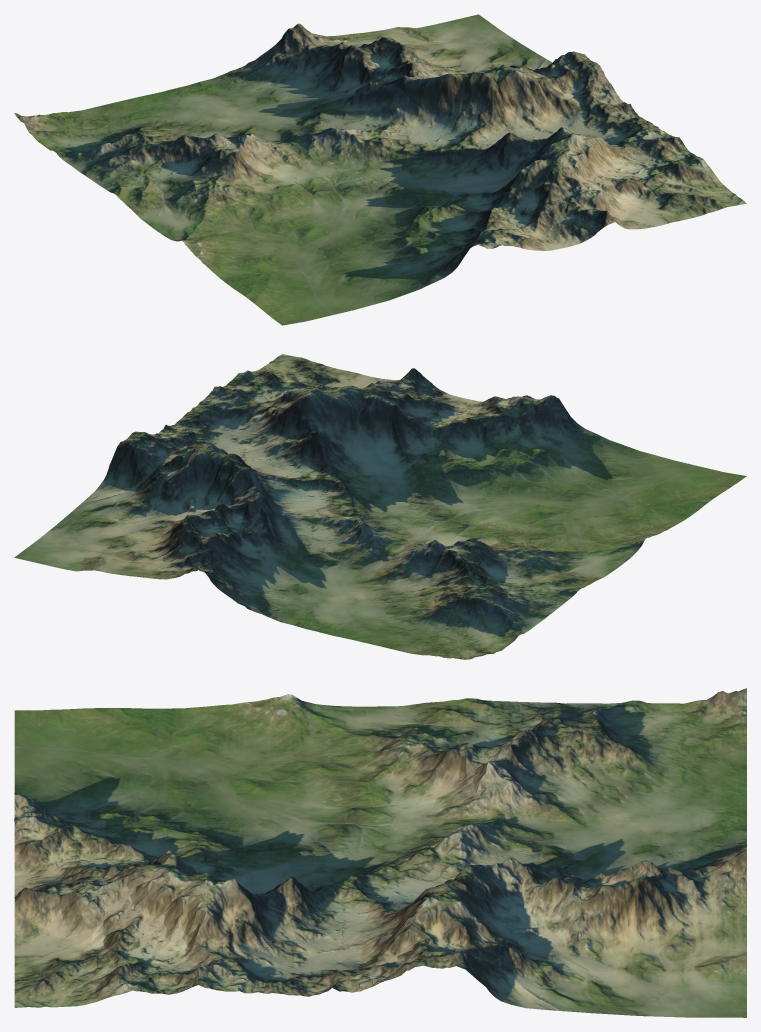
Rendered from mountains.obj.
3 views of the same model, one above another, from view 1: azimuth 30°, elevation 25°; view 2: azimuth 150°, elevation 25°; view 3: azimuth 270°, elevation 25° (orthographic). The views are drawn at different scales.
Parts seen in each view (by area): view 1: mountains; view 2: mountains; view 3: mountains.
Part boxes in pixels (x1=…): mountains: x1=14, y1=14, x2=746, y2=325; mountains: x1=14, y1=354, x2=746, y2=659; mountains: x1=14, y1=688, x2=746, y2=1017.
Bounding box in the file's own units: 400 × 44.36 × 400.
1 material, 1 textured.
